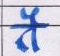ai_matra: (21, 6, 42, 26)
